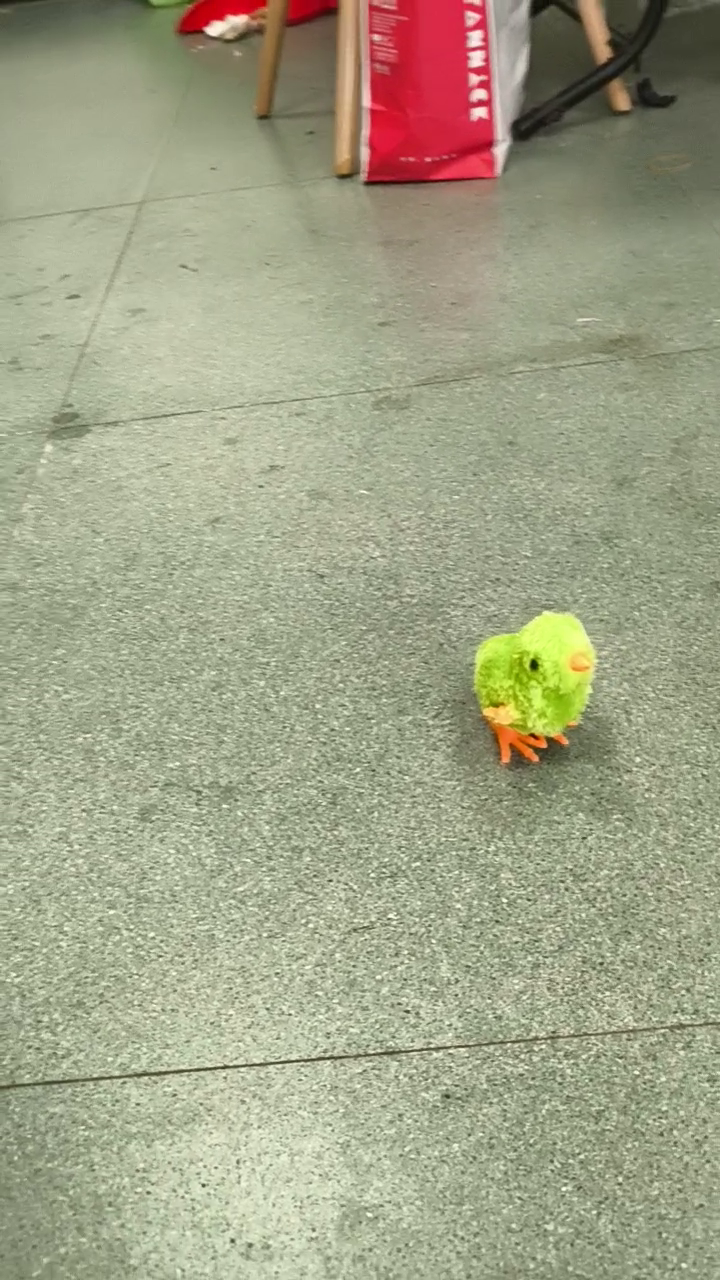green chicken: (470, 607, 604, 771)
